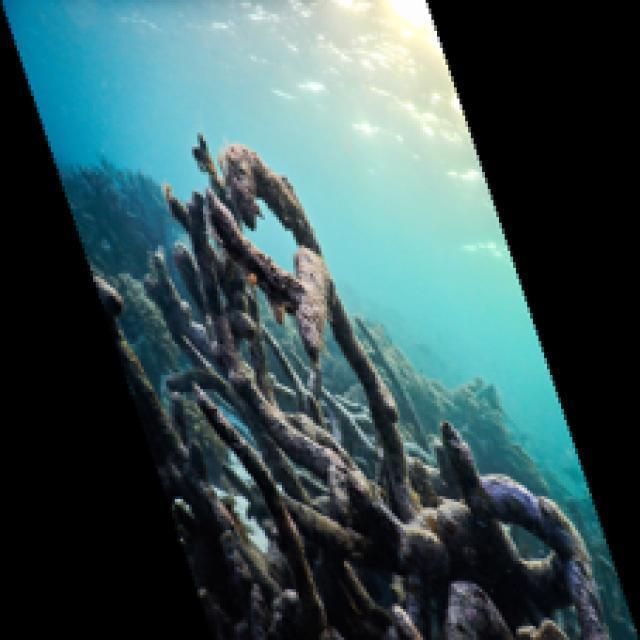Dead Coral: (117, 131, 498, 614)
